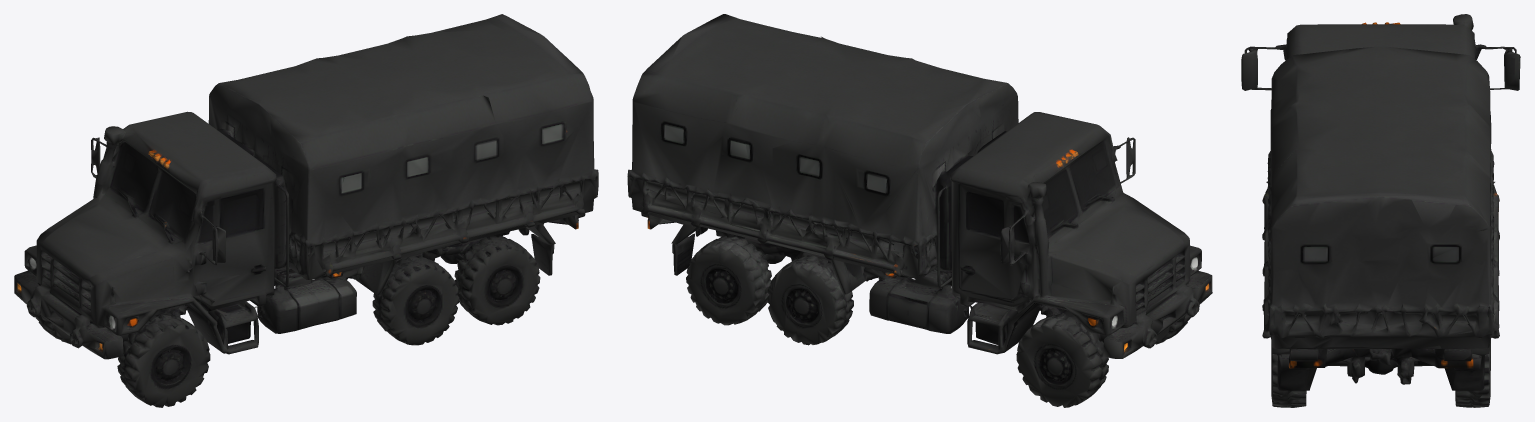
Rendered from Meshy_AI_Midnight_Tactical_Tru_0503074742_texture.fbx.
3 renders of one model, left to right at view 1: azimuth 30°, elevation 25°; view 2: azimuth 150°, elevation 25°; view 3: azimuth 270°, elevation 25°, orthographic. The views are drawn at different scales.
Parts seen in each view (by area): view 1: Mesh_0; view 2: Mesh_0; view 3: Mesh_0.
Boxes of the visible parts, x1,y1,x2,y2 form: Mesh_0: (14, 14, 598, 407); Mesh_0: (627, 14, 1212, 407); Mesh_0: (1241, 14, 1520, 407).
Size of the model in its own units: 191 by 85.7 by 85.38.
Materials: 1 (1 with a texture image).
